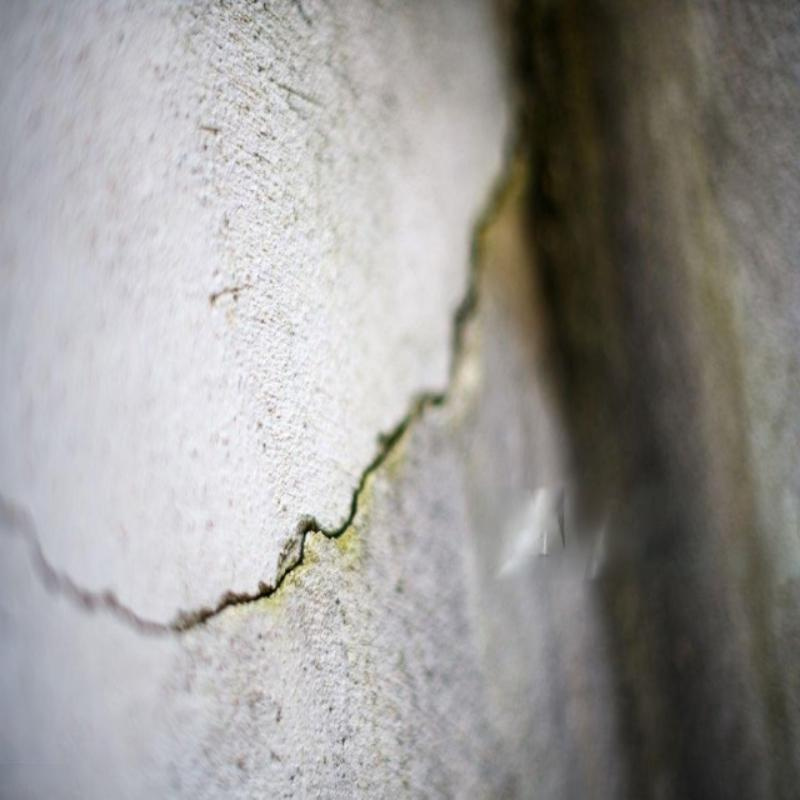pothole: (0, 117, 528, 639)
